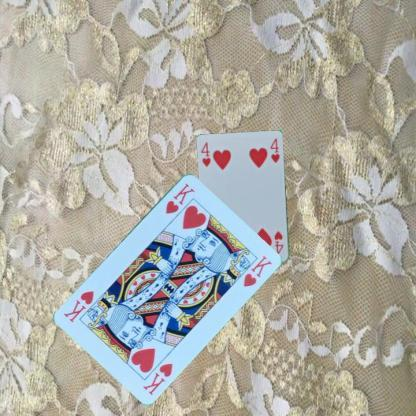4h: (198, 140, 212, 168), (272, 228, 285, 256)
Kh: (140, 360, 174, 396), (163, 180, 196, 215)
